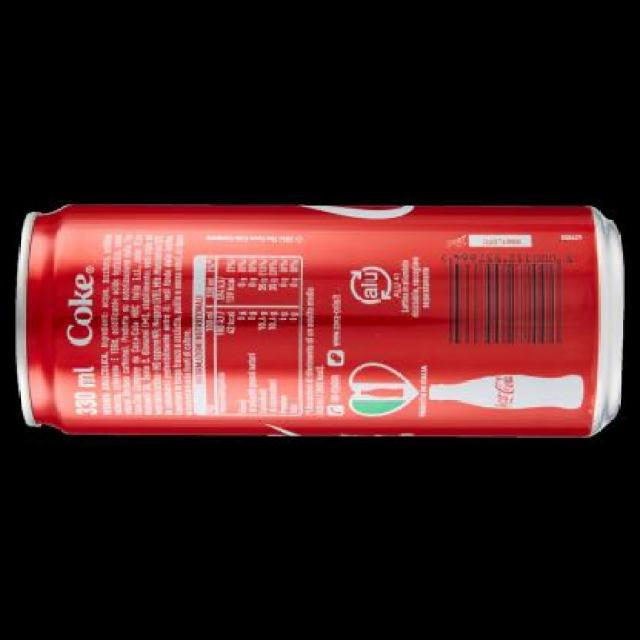Coke: (16, 201, 630, 437)
